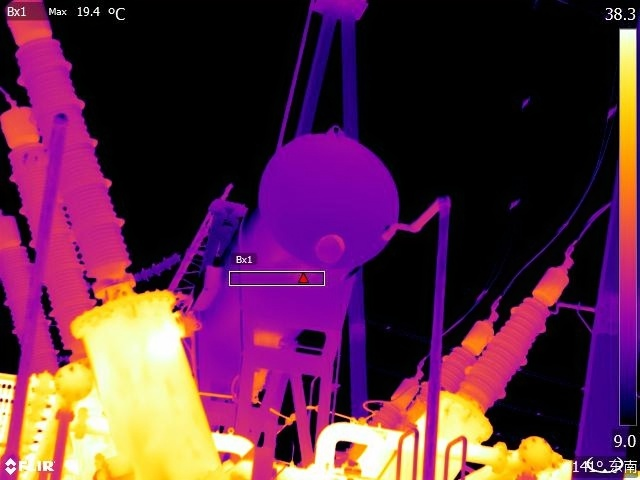insulator: (133, 247, 190, 287)
oil conservator: (188, 121, 407, 393)
tube: (7, 1, 164, 309), (1, 95, 105, 365), (443, 253, 583, 423), (396, 300, 506, 440), (1, 201, 68, 393), (364, 363, 426, 444)
